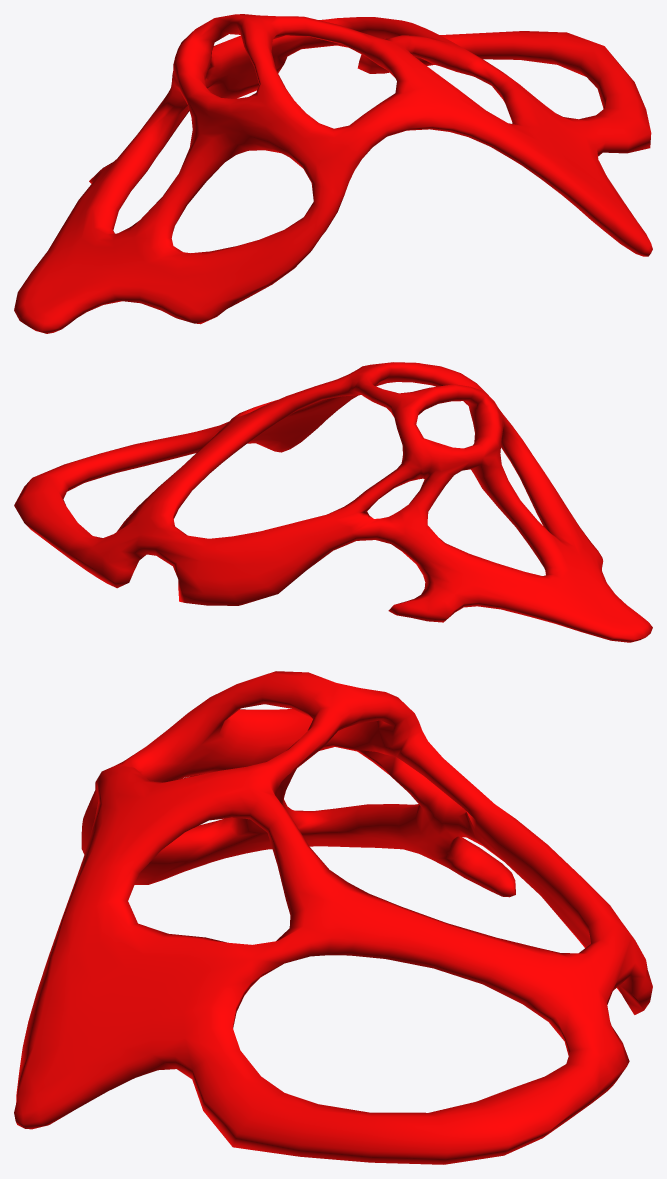
File: SM_Corail_02.fbx
3 views of the same model, one above another, from view 1: azimuth 30°, elevation 25°; view 2: azimuth 150°, elevation 25°; view 3: azimuth 270°, elevation 25° (orthographic). The views are drawn at different scales.
Visible parts, largest first — view 1: Plaque_corail_02_low; view 2: Plaque_corail_02_low; view 3: Plaque_corail_02_low.
Part boxes in pixels (bbox=[...]): Plaque_corail_02_low: bbox=[14, 14, 652, 333]; Plaque_corail_02_low: bbox=[14, 362, 652, 642]; Plaque_corail_02_low: bbox=[14, 671, 652, 1164].
Bounding box in the file's own units: 295 × 104 × 197.
